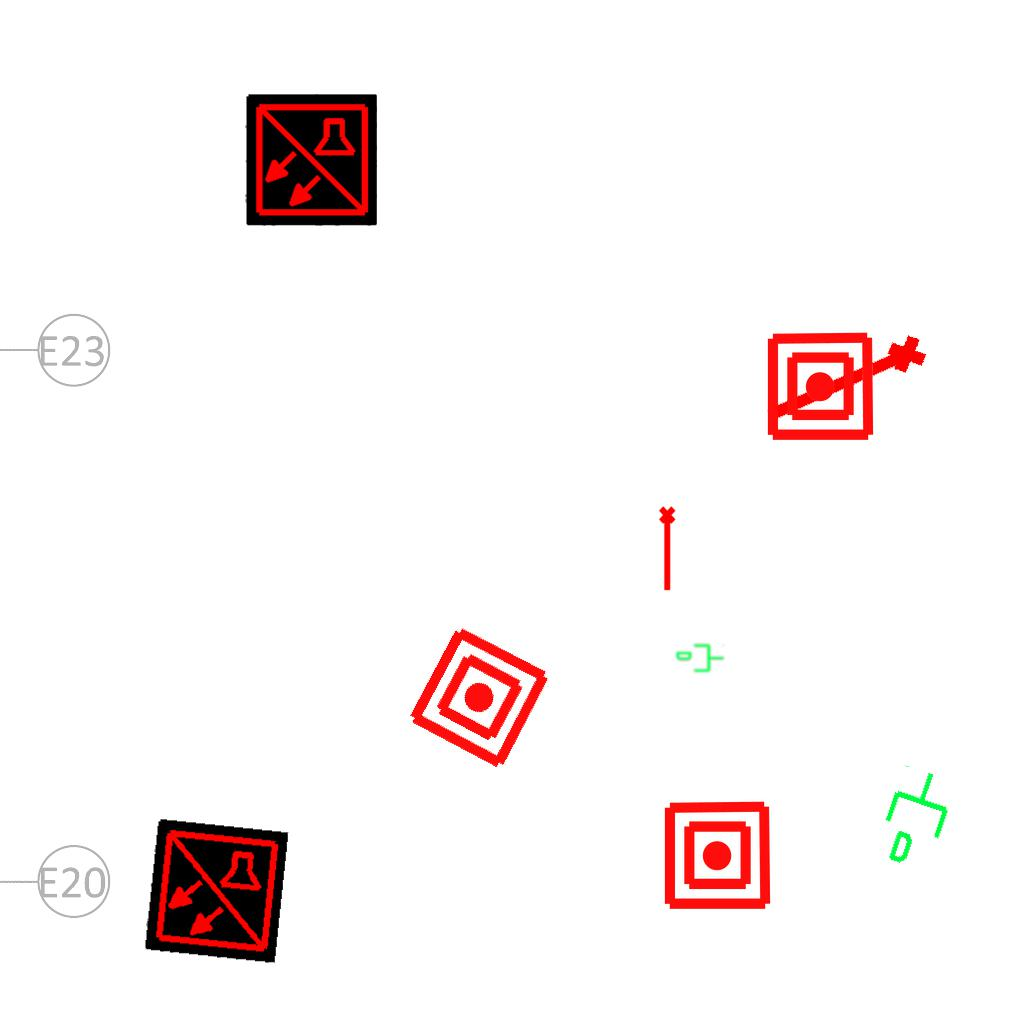ASR_Ansaugoeffnung: (756, 327, 936, 441), (657, 505, 680, 593)
Datenanschluss_einfach: (868, 760, 967, 878), (675, 642, 725, 676)
NAM-Nichtautomatischer_Melder: (403, 621, 556, 774), (661, 799, 774, 912), (764, 330, 877, 443)
OKW_Multisensormelder_(Kombination_optischer_Rauch-Kahlenmonoxid_Waerme-Melder): (143, 818, 289, 964), (245, 94, 377, 226)
